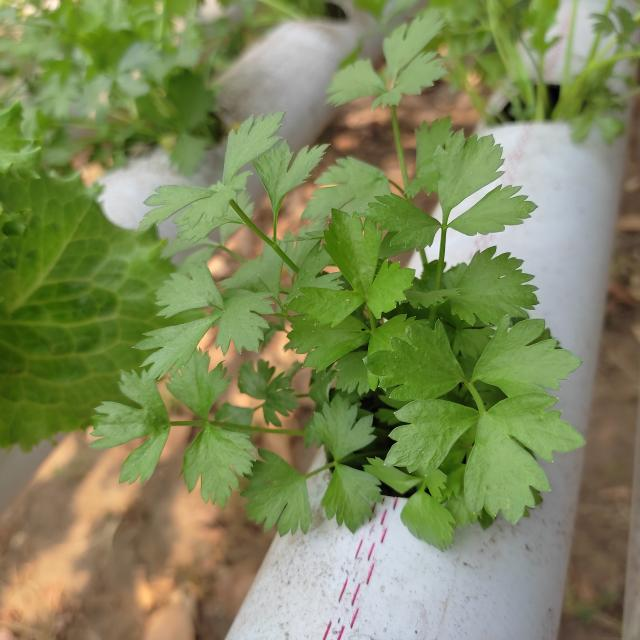Wet Waste: (193, 173, 590, 568)
